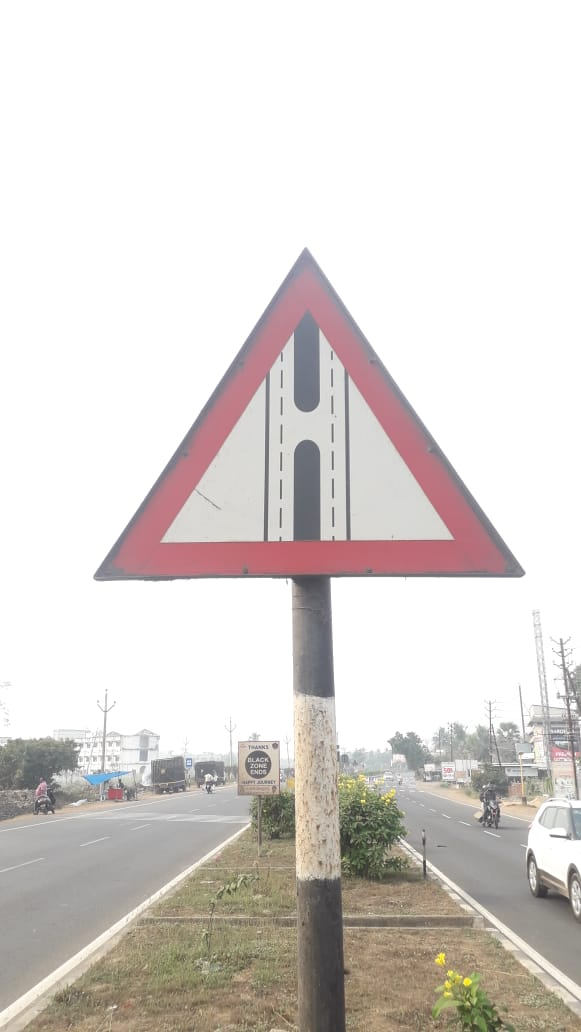highway go straight: (26, 226, 571, 644)
